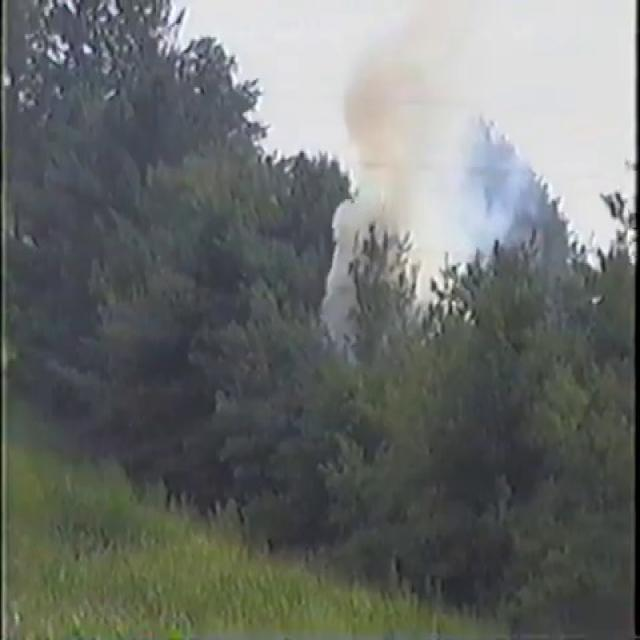Smoke: (316, 1, 538, 335)
